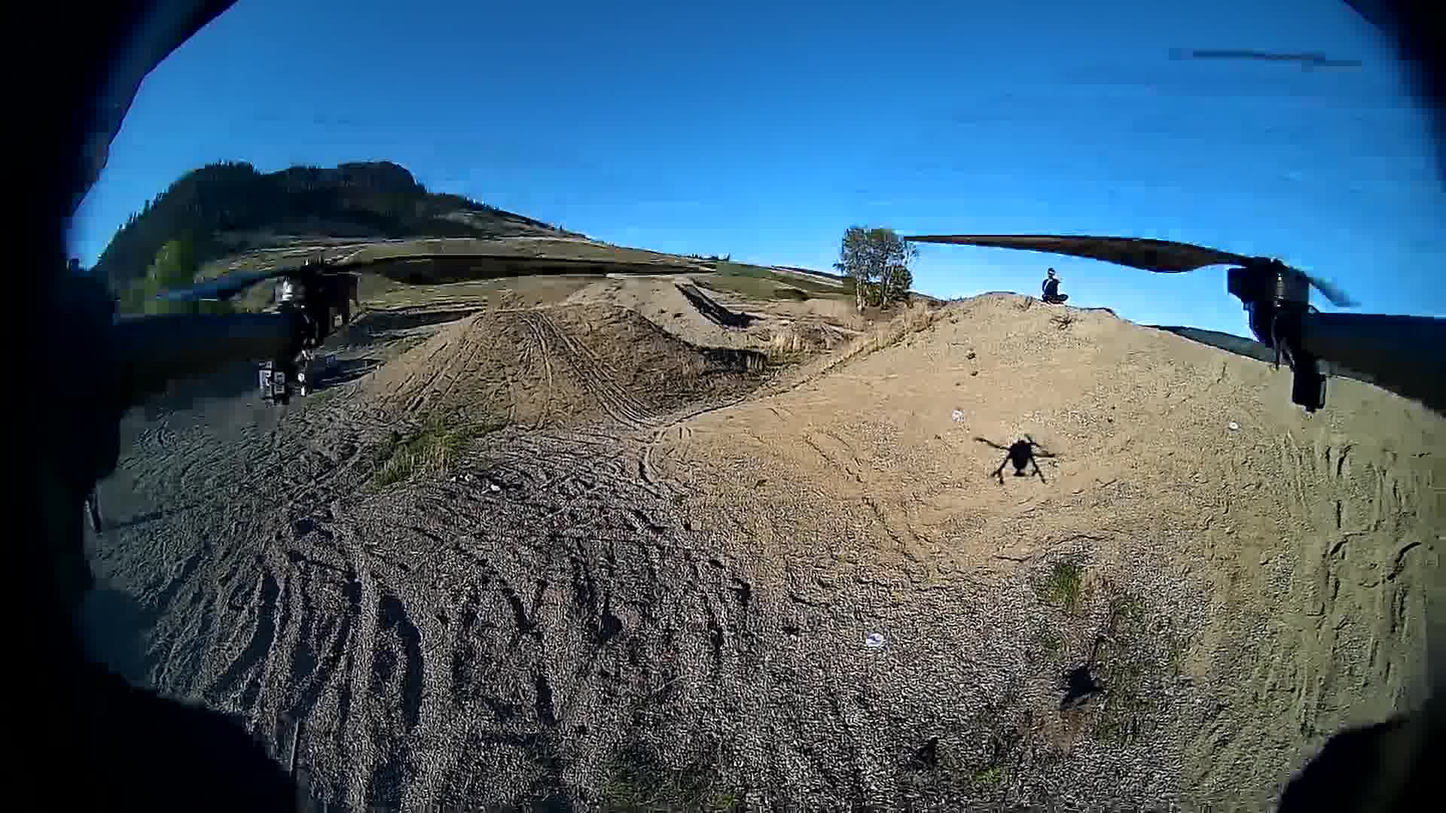Target: (867, 632, 883, 646)
